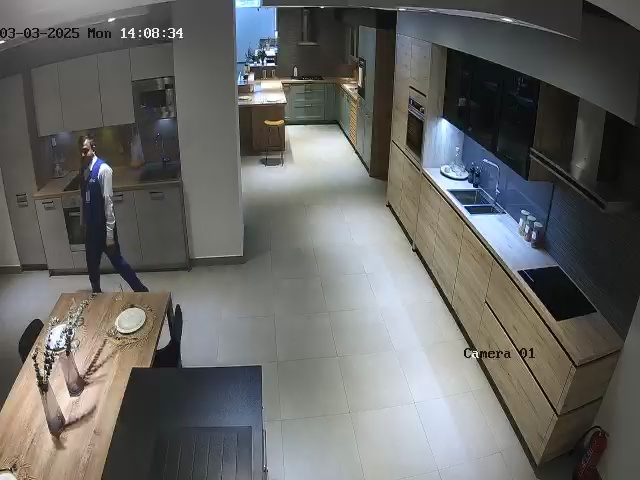employee: (77, 134, 150, 295)
